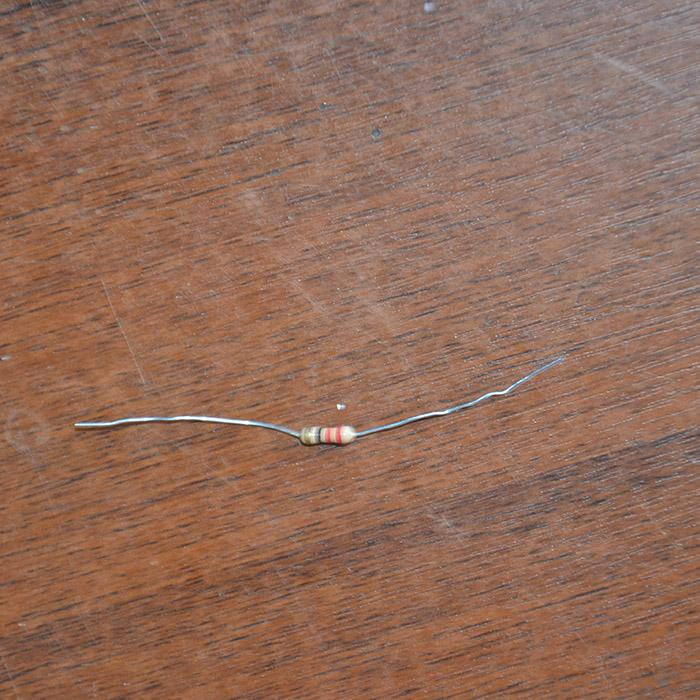resistor: (300, 425, 355, 446)
